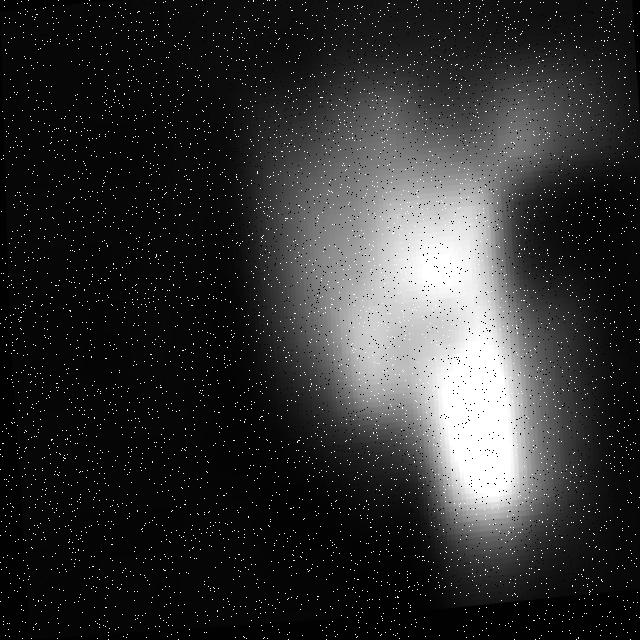person: (213, 35, 636, 620)
